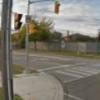traffic lights: (14, 12, 24, 30)
